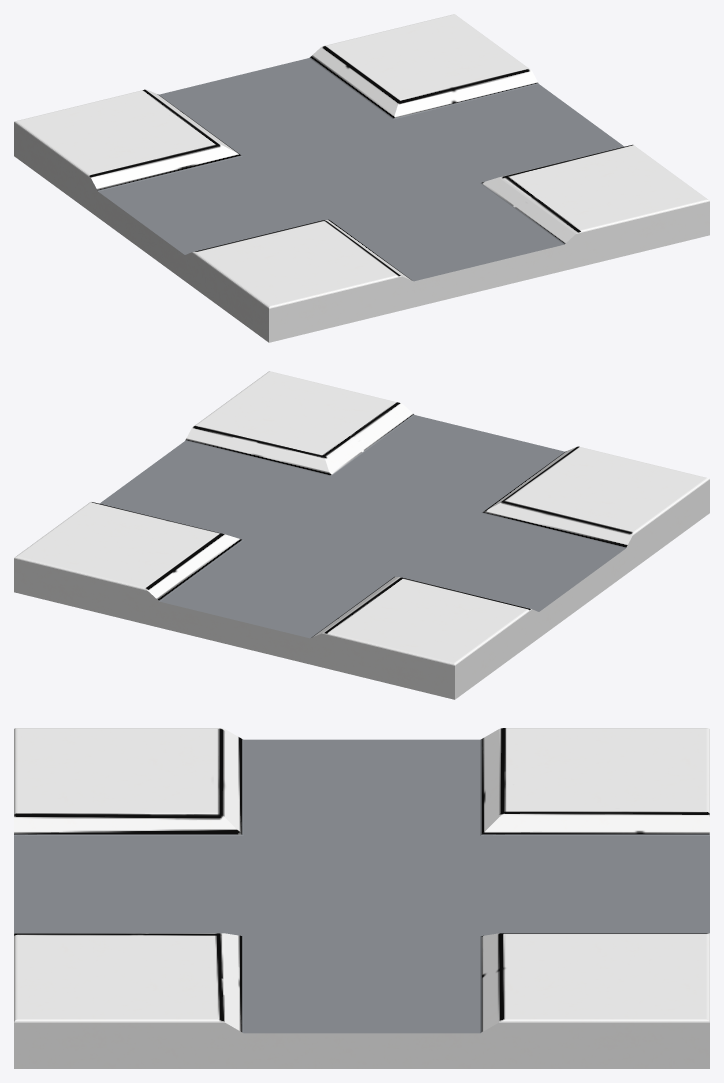
The model's file is crossroad4.fbx.
3 views of the same model, one above another, from view 1: azimuth 30°, elevation 25°; view 2: azimuth 150°, elevation 25°; view 3: azimuth 270°, elevation 25° (orthographic). The views are drawn at different scales.
Parts seen in each view (by area): view 1: Cube; view 2: Cube; view 3: Cube.
Part boxes in pixels (box(x1,y1,x2,y2)): Cube: box(14, 14, 709, 342); Cube: box(14, 371, 709, 699); Cube: box(14, 728, 709, 1068).
Size of the model in its own units: 195 by 15 by 196.
